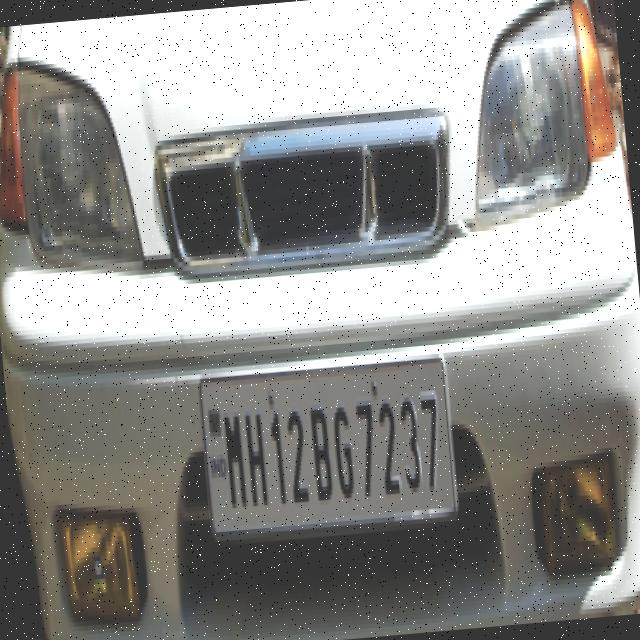Autre: (198, 349, 458, 530)
